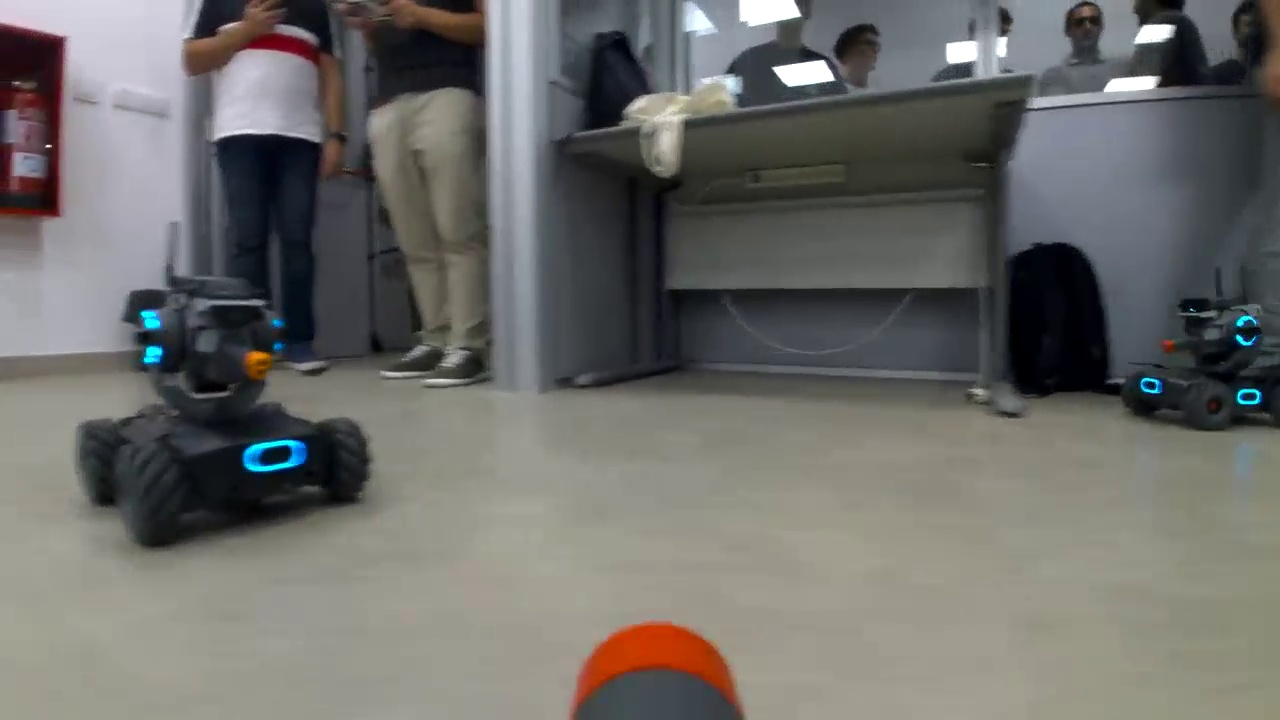robot: (66, 264, 382, 554)
